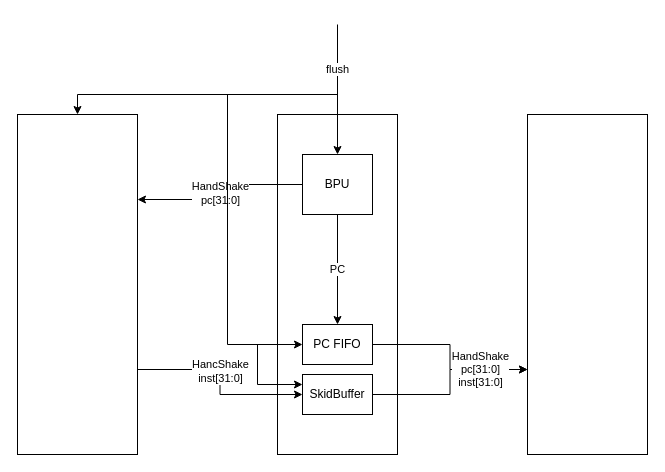
Some shapes in this 665 by 472 pixel diagram are drawn without their labels. The centre of each missing label's shape, as x and y in pixels:
"ICache" belongs at point (77, 284).
"IDU" belongs at point (587, 284).
